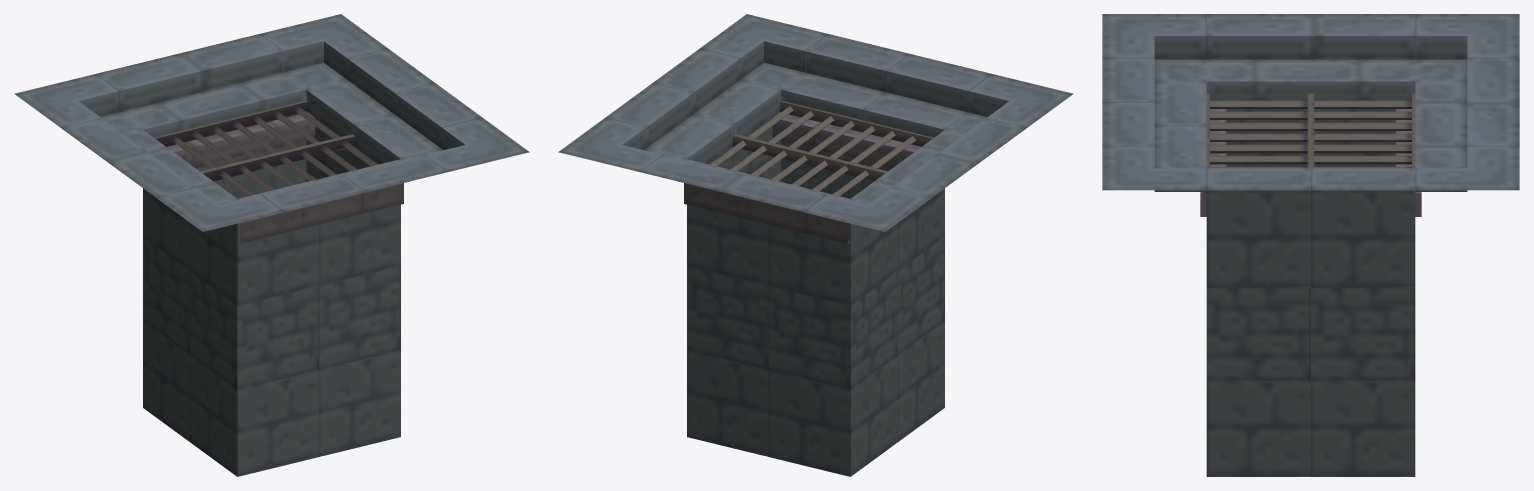
File: floor_element_4_purple.fbx
3 renders of one model, left to right at view 1: azimuth 30°, elevation 25°; view 2: azimuth 150°, elevation 25°; view 3: azimuth 270°, elevation 25°, orthographic. The views are drawn at different scales.
Visible parts, largest first — view 1: floor_element_4_purple; view 2: floor_element_4_purple; view 3: floor_element_4_purple.
Part boxes in pixels (x1=…): floor_element_4_purple: x1=14, y1=14, x2=529, y2=476; floor_element_4_purple: x1=558, y1=14, x2=1073, y2=476; floor_element_4_purple: x1=1102, y1=14, x2=1519, y2=476.
Size of the model in its own units: 64 by 56 by 64.
